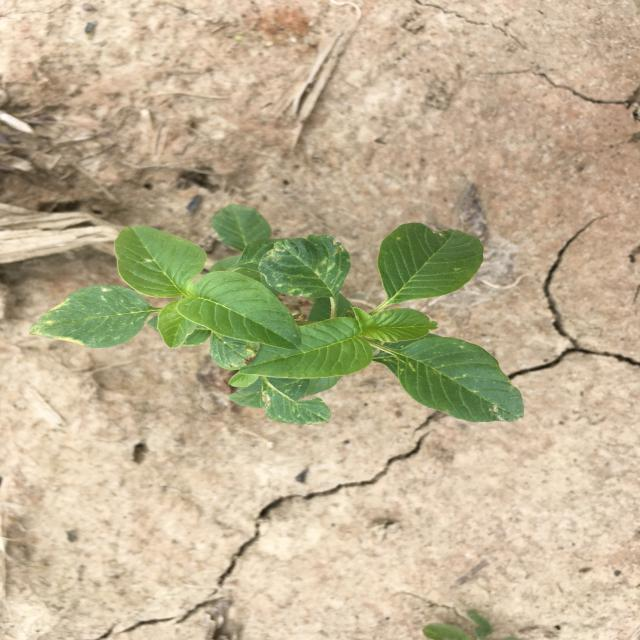PalmerAmaranth: (28, 203, 526, 425)
